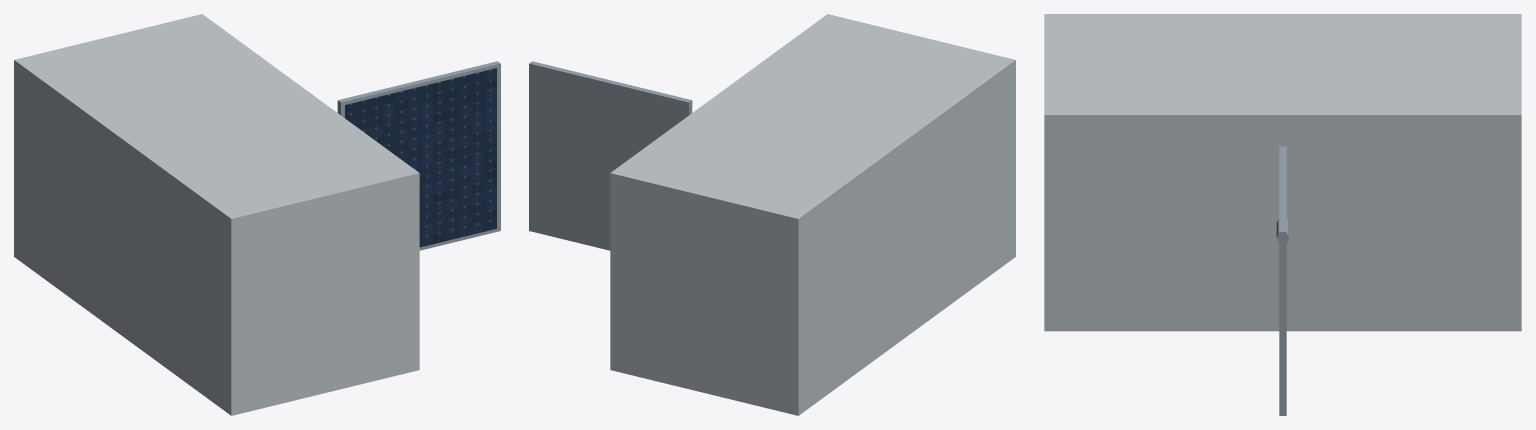
The model's file is ref-darkcarb-56954.glb.
The picture shows the model from 3 angles, left to right: view 1: azimuth 30°, elevation 25°; view 2: azimuth 150°, elevation 25°; view 3: azimuth 270°, elevation 25°; orthographic projection. The views are drawn at different scales.
Visible parts, largest first — view 1: Spacecraft body, Photovoltaic laminates, Array frame; view 2: Spacecraft body, Array frame; view 3: Spacecraft body, Array frame.
Boxes of the visible parts, left/top/right/bottom form: Spacecraft body: left=14, top=14, right=419, bottom=415; Photovoltaic laminates: left=345, top=68, right=496, bottom=247; Array frame: left=337, top=61, right=500, bottom=250; Spacecraft body: left=610, top=14, right=1015, bottom=415; Array frame: left=529, top=61, right=692, bottom=250; Spacecraft body: left=1044, top=14, right=1521, bottom=331; Array frame: left=1279, top=146, right=1286, bottom=415.
Bounding box in the file's own units: 1 × 0.5 × 1.
3 materials, 1 textured.
